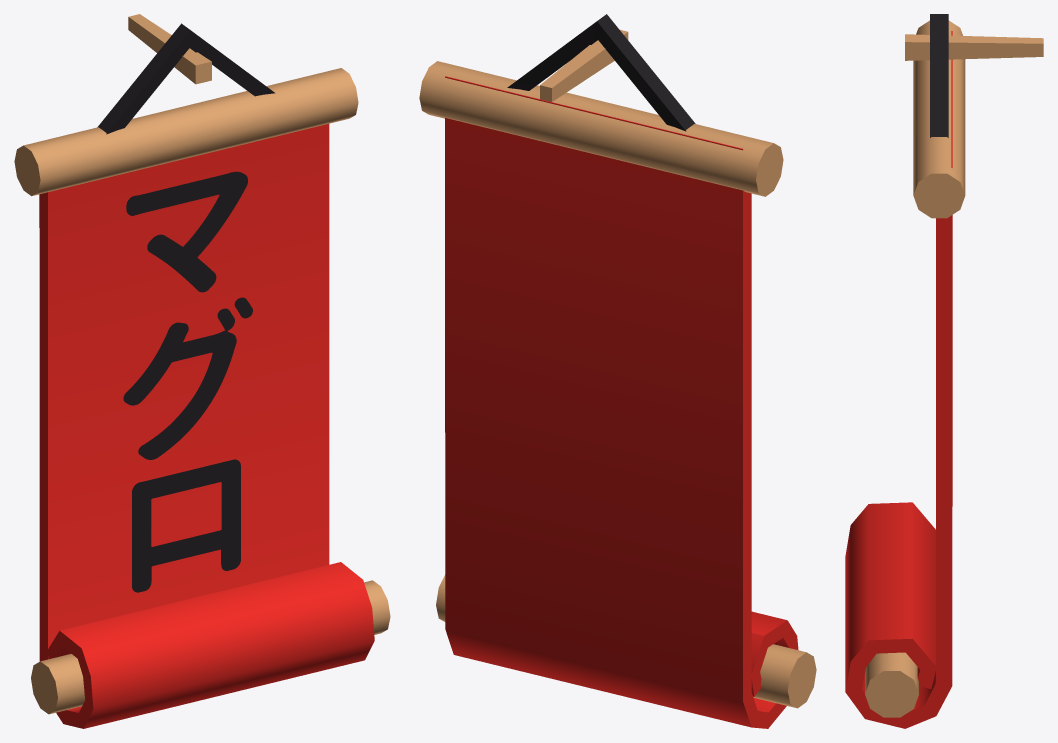
The model's file is quaternius-sushi-restaurant-decoration-sign-3.glb.
3 views of the same model, side by side, from view 1: azimuth 30°, elevation 25°; view 2: azimuth 150°, elevation 25°; view 3: azimuth 270°, elevation 25° (orthographic). The views are drawn at different scales.
Parts seen in each view (by area): view 1: Decoration_Sign_3; view 2: Decoration_Sign_3; view 3: Decoration_Sign_3.
Boxes of the visible parts, x1,y1,x2,y2 form: Decoration_Sign_3: (14,14,390,728); Decoration_Sign_3: (419,14,816,728); Decoration_Sign_3: (845,14,1043,728).
Bounding box in the file's own units: 1.67 × 3.12 × 0.8673.
1 material, 1 textured.
